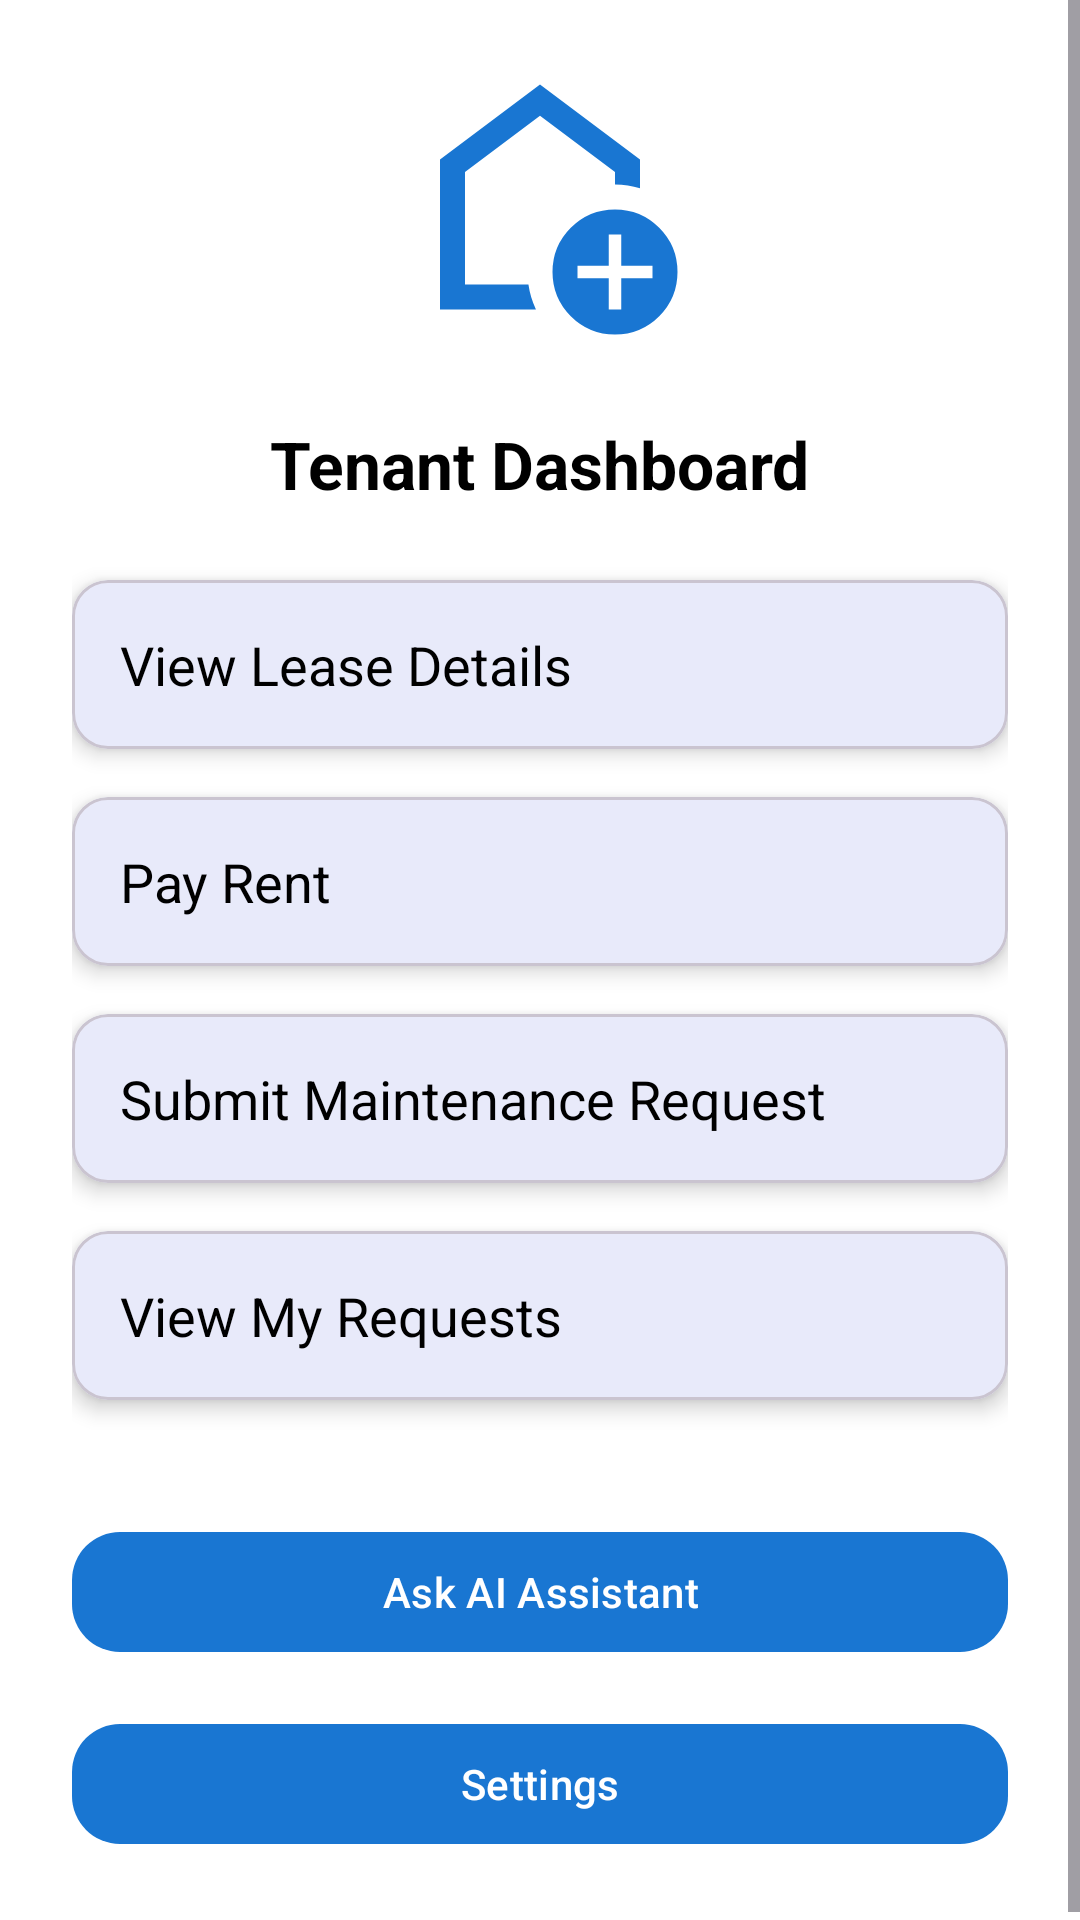

Named icons in this screenshot (1080w x 1920h) and their centers, [x,y]:
home: [559,209]
